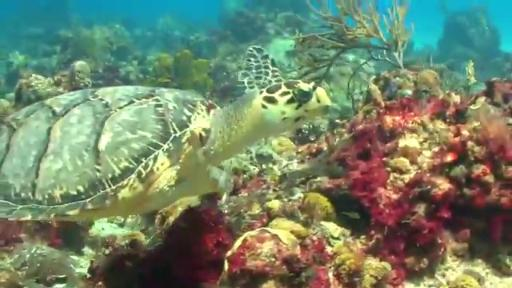Fish: (0, 47, 331, 220)
